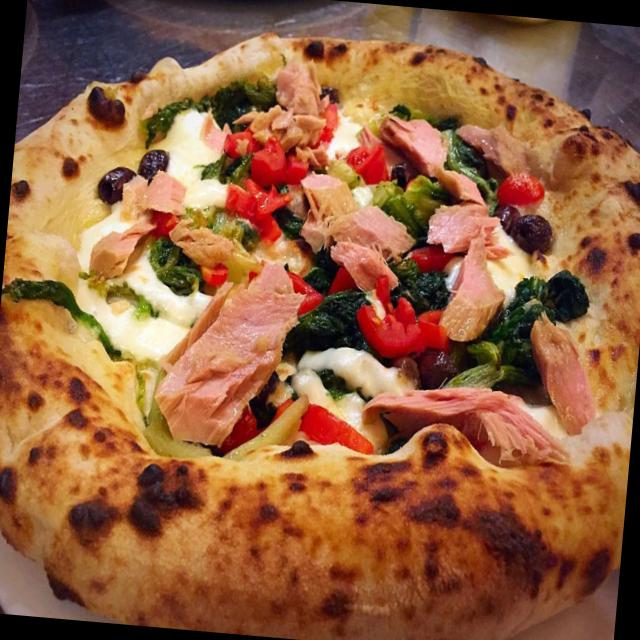black_olives: (417, 336, 457, 386), (514, 210, 552, 256), (96, 160, 134, 199), (139, 144, 166, 182), (492, 202, 518, 234), (390, 160, 407, 193)
peppers: (274, 394, 374, 454), (354, 296, 427, 357), (220, 175, 286, 237), (247, 134, 319, 190), (494, 165, 546, 203), (346, 140, 388, 182), (288, 266, 322, 312)
pizza: (0, 33, 640, 640)
